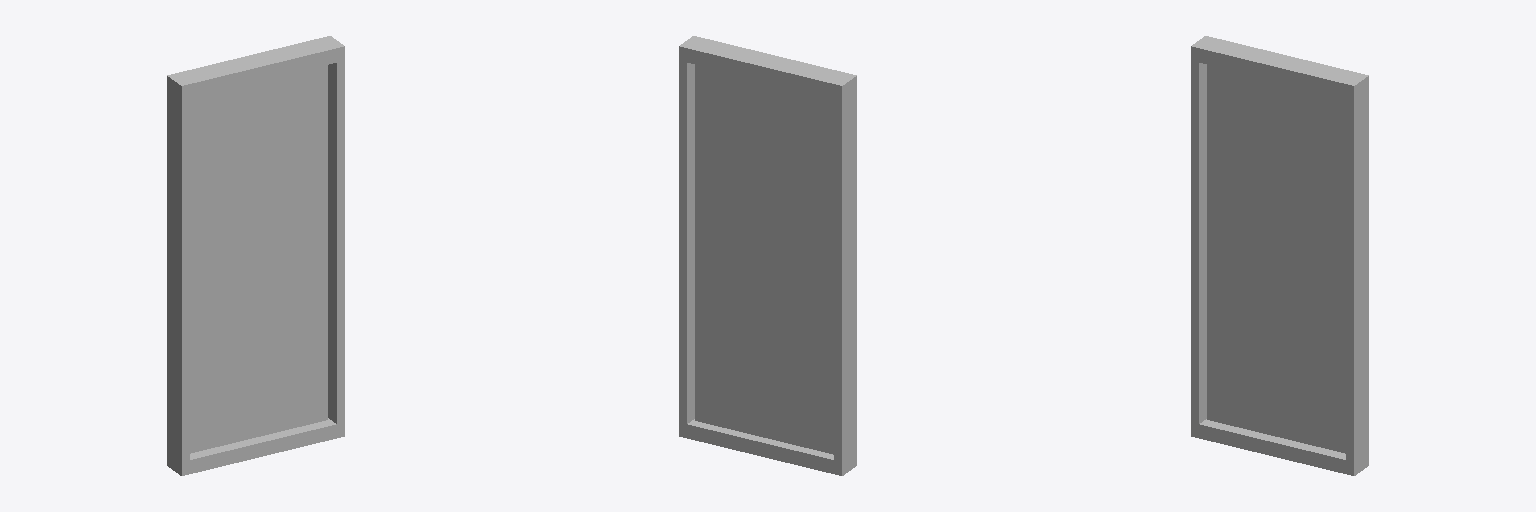
The model's file is PuertaCentral.obj.
3 renders of one model, left to right at view 1: azimuth 30°, elevation 25°; view 2: azimuth 150°, elevation 25°; view 3: azimuth 330°, elevation 25°, orthographic.
Visible parts, largest first — view 1: PuertaCentral:Rectangle10; view 2: PuertaCentral:Rectangle10; view 3: PuertaCentral:Rectangle10.
Boxes of the visible parts, box(x1,y1,x2,y2) form: PuertaCentral:Rectangle10: box(167, 36, 344, 475); PuertaCentral:Rectangle10: box(679, 36, 856, 475); PuertaCentral:Rectangle10: box(1191, 36, 1368, 475).
Bounding box in the file's own units: 1.56 × 3.57 × 0.2415.